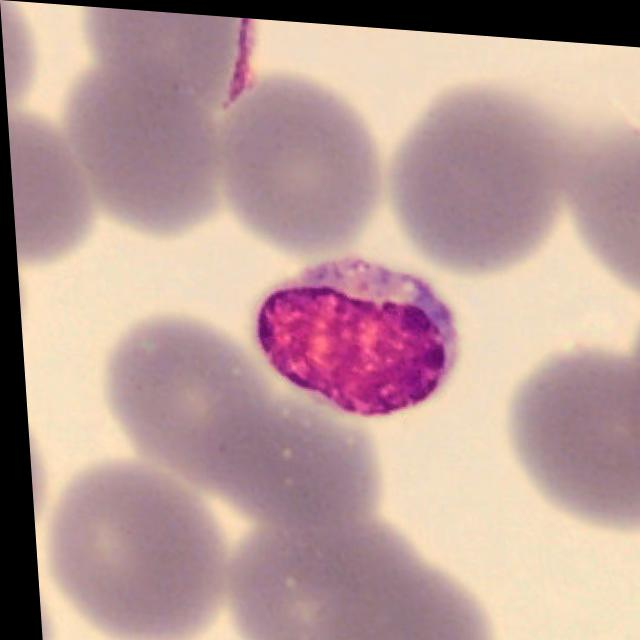Linfocito: (250, 250, 454, 411)
